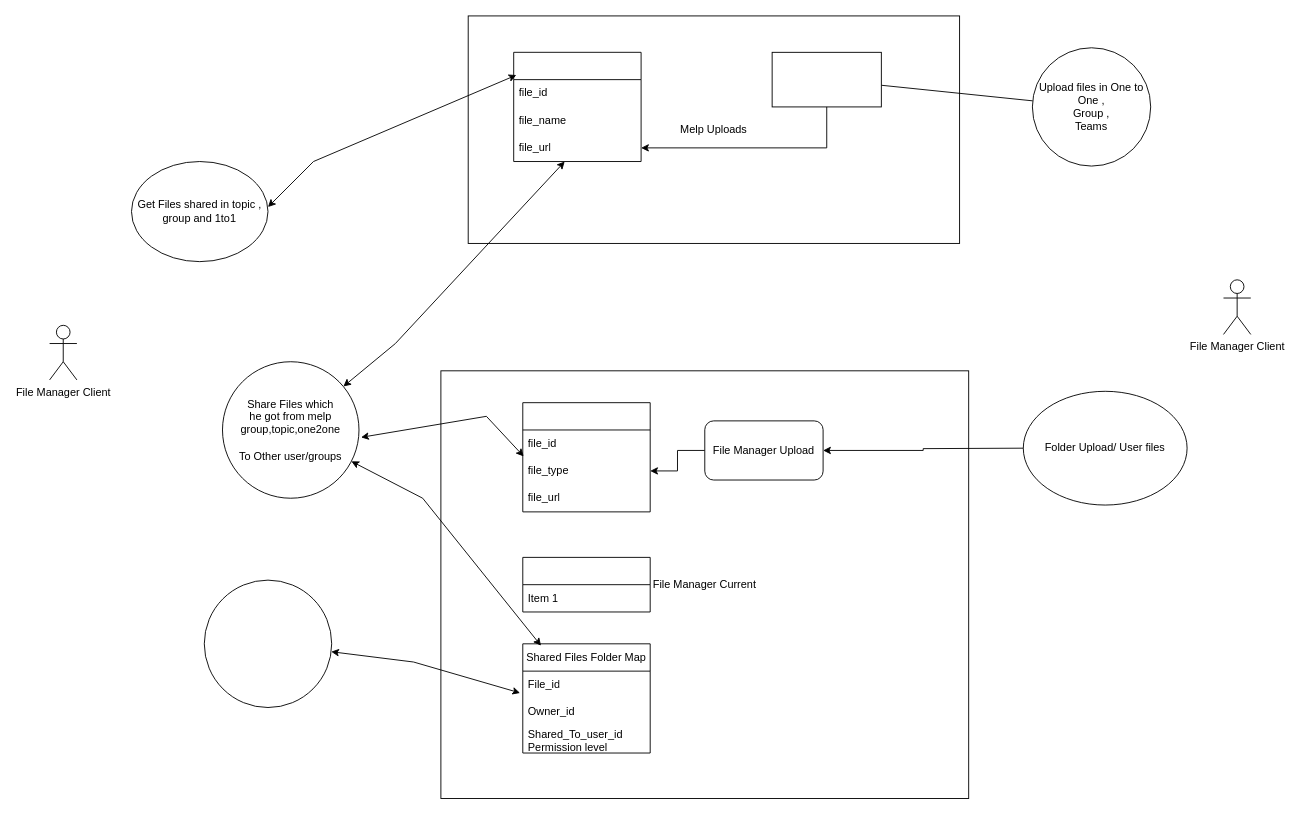
The diagram is 1299 pixels wide and 814 high, and some of its shapes have lost their labels. The shapes that lost their labels are listed below. From the top down, each one's box as (x1, y1, x2, y2) in pixels, then its label:
(771, 51, 881, 107): Existing Melp Upload
(513, 51, 641, 162): Melp_File
(522, 402, 650, 512): FileManager_File
(522, 556, 650, 612): User Files and Folder Mapping
(203, 579, 332, 708): Share User Files and and directory with Other Users and groups
